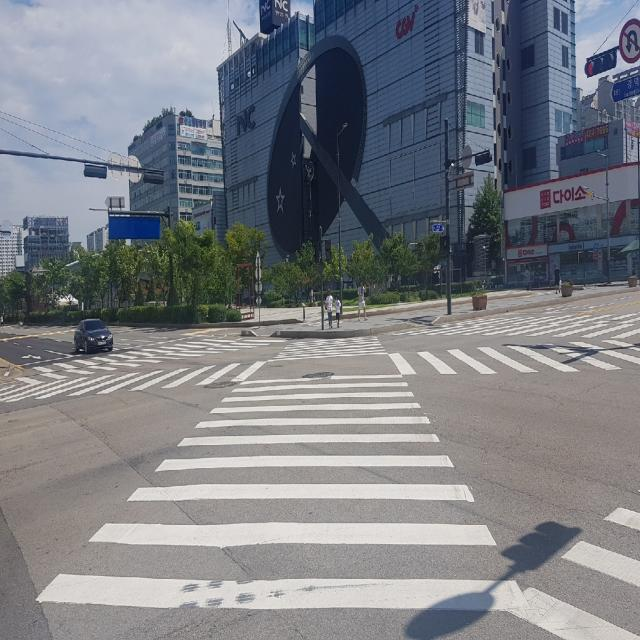횡단보도: (34, 334, 532, 614), (496, 464, 640, 637), (374, 318, 640, 378)
